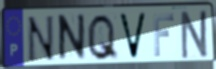F: (152, 13, 176, 59)
N: (180, 8, 211, 61), (57, 12, 87, 65), (25, 14, 56, 65)
Q: (86, 13, 120, 63)
V: (117, 12, 148, 61)
